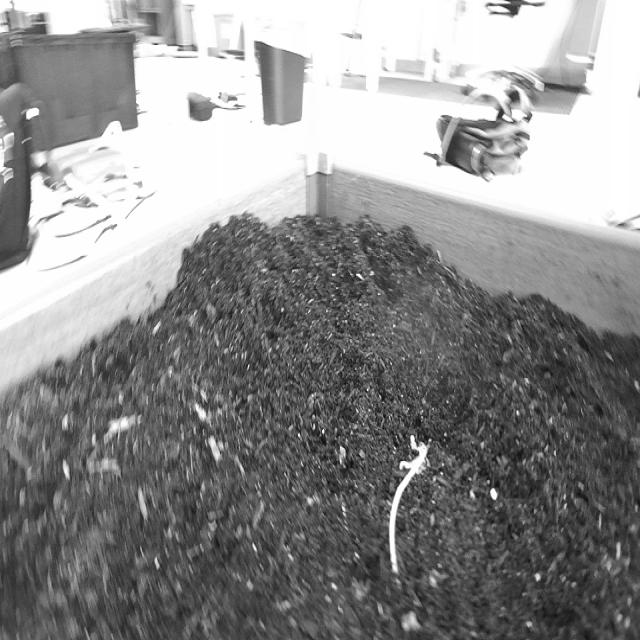Unhealthy: (378, 426, 438, 590)
